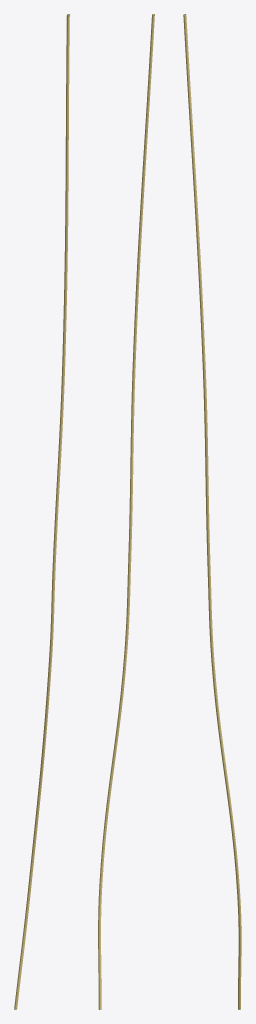
3 views of the same model, side by side, from view 1: azimuth 90°, elevation 25°; view 2: azimuth 150°, elevation 25°; view 3: azimuth 330°, elevation 25° (orthographic). The views are drawn at different scales.
Parts seen in each view (by area): view 1: ZA_22e94f99a02f68ef; view 2: ZA_22e94f99a02f68ef; view 3: ZA_22e94f99a02f68ef.
Boxes of the visible parts, <box> form: ZA_22e94f99a02f68ef: <box>14,14,69,1009</box>; ZA_22e94f99a02f68ef: <box>98,14,154,1009</box>; ZA_22e94f99a02f68ef: <box>183,14,241,1009</box>.
Bounding box in the file's own units: 0.014 × 0.361 × 0.0181.
